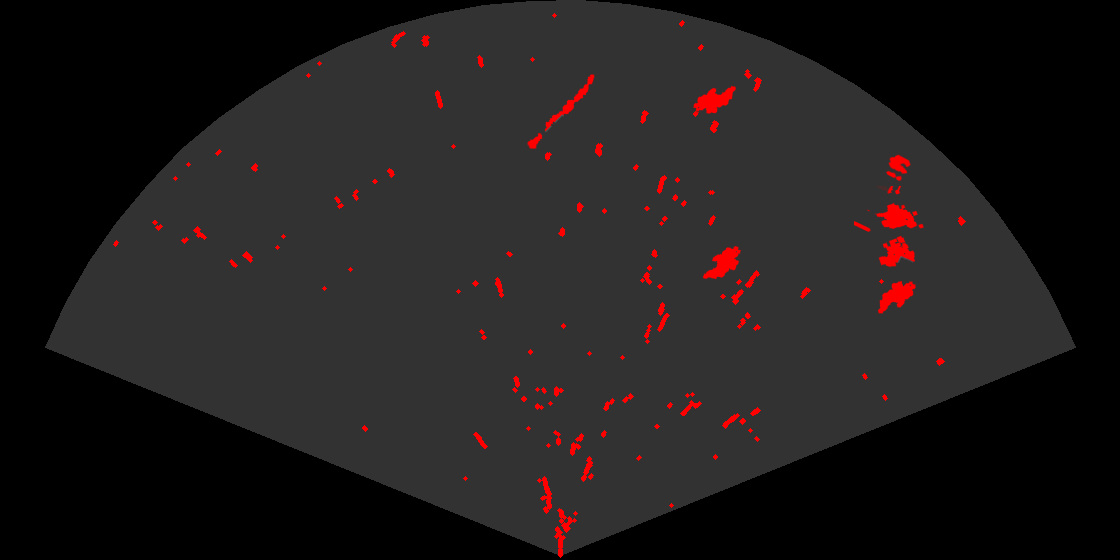AUV: (701, 244, 742, 281), (876, 279, 917, 315), (692, 84, 738, 115)
ball: (884, 153, 912, 183)
cage: (854, 186, 925, 269)
chain: (526, 73, 596, 150)
